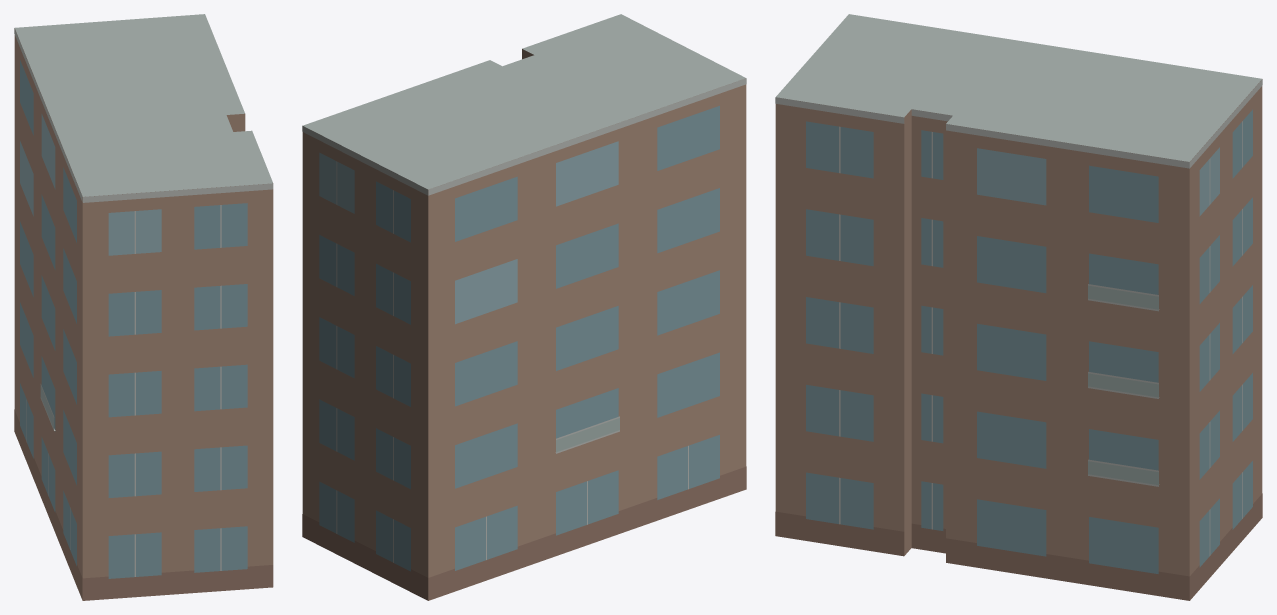
File: survey-upis-32854298.glb
3 views of the same model, side by side, from view 1: azimuth 30°, elevation 25°; view 2: azimuth 150°, elevation 25°; view 3: azimuth 270°, elevation 25° (orthographic). The views are drawn at different scales.
Visible parts, largest first — view 1: survey-upis-32854298.tmp; view 2: survey-upis-32854298.tmp; view 3: survey-upis-32854298.tmp.
Part boxes in pixels (x1,y1,x2,y2): survey-upis-32854298.tmp: (14, 14, 273, 600); survey-upis-32854298.tmp: (302, 14, 746, 600); survey-upis-32854298.tmp: (775, 14, 1262, 600).
Size of the model in its own units: 11.8 by 16.3 by 16.4.
